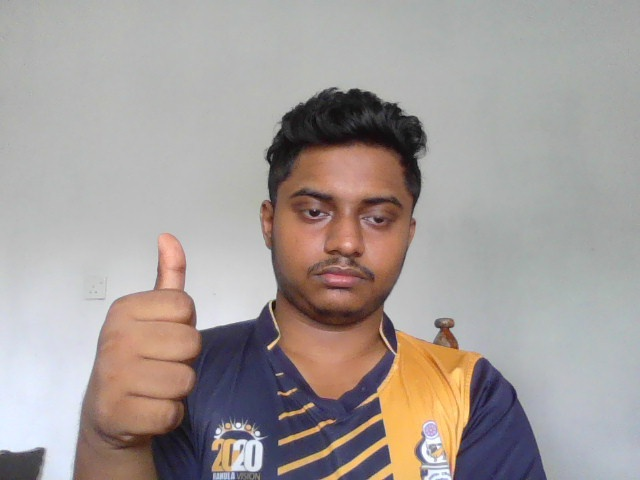Agree: (77, 229, 202, 446)
